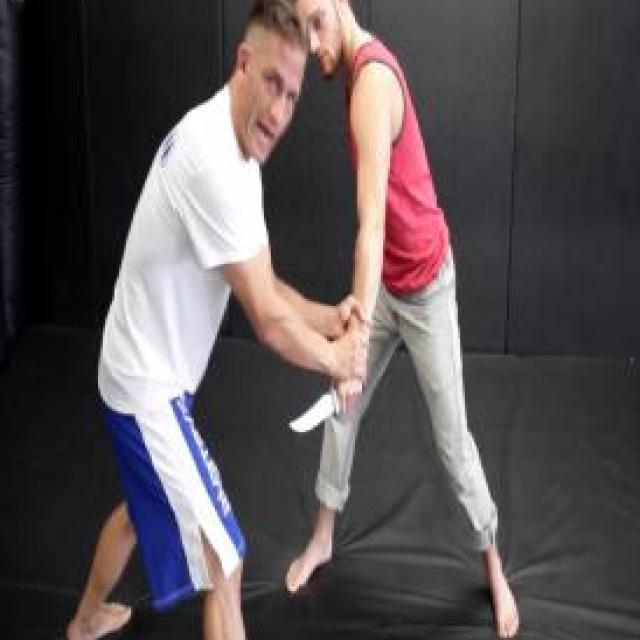knife: (286, 378, 369, 442)
